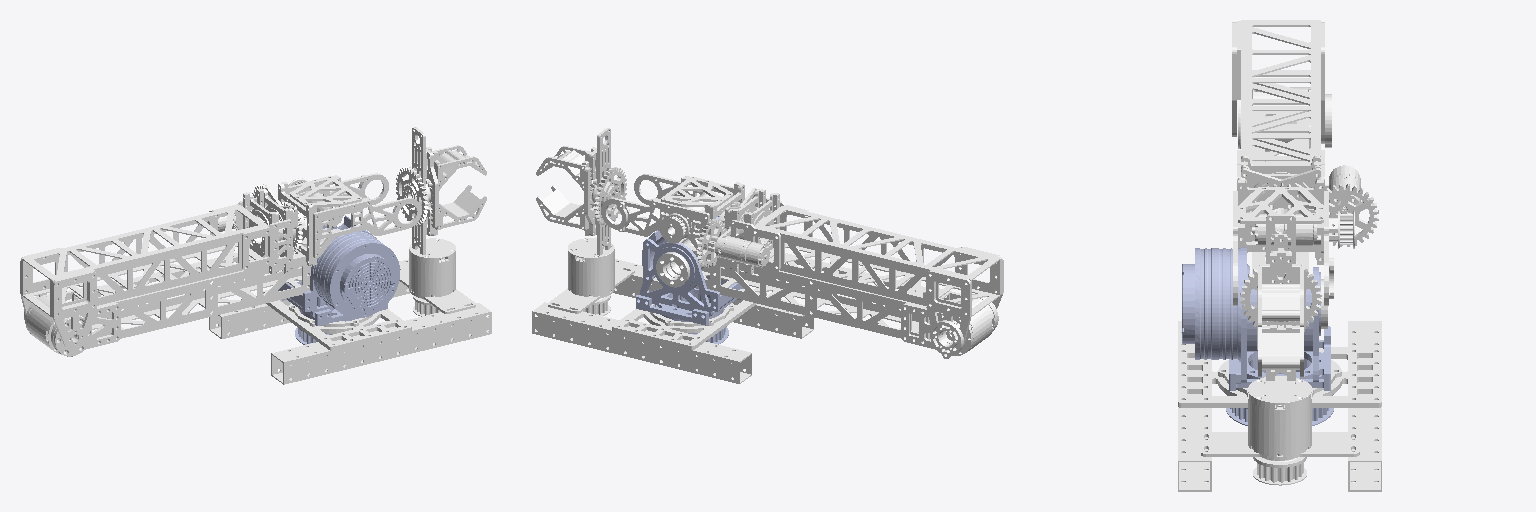
robot.urdf — M71_predev:
<?xml version="1.0" encoding="utf-8"?>
<!-- This URDF was automatically created by SolidWorks to URDF Exporter! Originally created by Stephen Brawner (brawner@gmail.com) 
     Commit Version: 1.6.0-4-g7f85cfe  Build Version: 1.6.7995.38578
     For more information, please see http://wiki.ros.org/sw_urdf_exporter -->
<robot
  name="M71_predev">
  <link
    name="base_link">
    <inertial>
      <origin
        xyz="0.0602359620912775 2.06534394533487E-05 0.0314866145451727"
        rpy="0 0 0" />
      <mass
        value="0.371602000049835" />
      <inertia
        ixx="0.000479688158034869"
        ixy="-9.04126602004178E-07"
        ixz="1.69296139713029E-08"
        iyy="0.00091399431733"
        iyz="-2.34354762167464E-12"
        izz="0.00133269062108826" />
    </inertial>
    <visual>
      <origin
        xyz="0 0 0"
        rpy="0 0 0" />
      <geometry>
        <mesh
          filename="../meshes/base_link.STL" />
      </geometry>
      <material
        name="">
        <color
          rgba="1 1 1 1" />
      </material>
    </visual>
    <collision>
      <origin
        xyz="0 0 0"
        rpy="0 0 0" />
      <geometry>
        <mesh
          filename="../meshes/base_link.STL" />
      </geometry>
    </collision>
  </link>
  <link
    name="L1">
    <inertial>
      <origin
        xyz="0.00146879518234866 -0.0261683264535687 0.0614279628415452"
        rpy="0 0 0" />
      <mass
        value="0.685743266454038" />
      <inertia
        ixx="0.000524676161199613"
        ixy="-1.44471892471068E-08"
        ixz="-7.38359012131152E-06"
        iyy="0.000743422342107644"
        iyz="1.28946988763127E-07"
        izz="0.000700139701826251" />
    </inertial>
    <visual>
      <origin
        xyz="0 0 0"
        rpy="0 0 0" />
      <geometry>
        <mesh
          filename="../meshes/L1.STL" />
      </geometry>
      <material
        name="">
        <color
          rgba="0.796078431372549 0.823529411764706 0.937254901960784 1" />
      </material>
    </visual>
    <collision>
      <origin
        xyz="0 0 0"
        rpy="0 0 0" />
      <geometry>
        <mesh
          filename="../meshes/L1.STL" />
      </geometry>
    </collision>
  </link>
  <joint
    name="J1"
    type="revolute">
    <origin
      xyz="0 0 0.017"
      rpy="0 0 0" />
    <parent
      link="base_link" />
    <child
      link="L1" />
    <axis
      xyz="0 0 -1" />
    <limit
      lower="-0.78539"
      upper="1.5708"
      effort="0"
      velocity="0" />
  </joint>
  <link
    name="L2">
    <inertial>
      <origin
        xyz="0.218263522656866 -4.62780270635116E-06 0.00267346294069555"
        rpy="0 0 0" />
      <mass
        value="0.466856513178999" />
      <inertia
        ixx="0.000240555561972359"
        ixy="-1.85843729120172E-08"
        ixz="-7.89442160404663E-07"
        iyy="0.00246887143975486"
        iyz="-1.69296139623496E-08"
        izz="0.00250536453398545" />
    </inertial>
    <visual>
      <origin
        xyz="0 0 0"
        rpy="0 0 0" />
      <geometry>
        <mesh
          filename="../meshes/L2.STL" />
      </geometry>
      <material
        name="">
        <color
          rgba="1 1 1 1" />
      </material>
    </visual>
    <collision>
      <origin
        xyz="0 0 0"
        rpy="0 0 0" />
      <geometry>
        <mesh
          filename="../meshes/L2.STL" />
      </geometry>
    </collision>
  </link>
  <joint
    name="J2"
    type="revolute">
    <origin
      xyz="0 0.0007 0.084"
      rpy="1.5708 0 3.1416" />
    <parent
      link="L1" />
    <child
      link="L2" />
    <axis
      xyz="0 0 1" />
    <limit
      lower="0"
      upper="1.7279"
      effort="0"
      velocity="0" />
  </joint>
  <link
    name="L3">
    <inertial>
      <origin
        xyz="0.046496278710457 0.154412525145946 0.00376501162415074"
        rpy="0 0 0" />
      <mass
        value="0.4707553740085" />
      <inertia
        ixx="0.00153078530246087"
        ixy="-3.48256639135333E-09"
        ixz="1.91642770446684E-10"
        iyy="0.000354284273710677"
        iyz="-6.89428800925179E-07"
        izz="0.00151931627057738" />
    </inertial>
    <visual>
      <origin
        xyz="0 0 0"
        rpy="0 0 0" />
      <geometry>
        <mesh
          filename="../meshes/L3.STL" />
      </geometry>
      <material
        name="">
        <color
          rgba="1 1 1 1" />
      </material>
    </visual>
    <collision>
      <origin
        xyz="0 0 0"
        rpy="0 0 0" />
      <geometry>
        <mesh
          filename="../meshes/L3.STL" />
      </geometry>
    </collision>
  </link>
  <joint
    name="J3"
    type="revolute">
    <origin
      xyz="0.385 0 0"
      rpy="0 0 1.5708" />
    <parent
      link="L2" />
    <child
      link="L3" />
    <axis
      xyz="0 0 1" />
    <limit
      lower="-3.1416"
      upper="0"
      effort="0"
      velocity="0" />
  </joint>
  <link
    name="L4">
    <inertial>
      <origin
        xyz="0.00633026084870138 -0.0046170197305301 0.0375305966704979"
        rpy="0 0 0" />
      <mass
        value="0.24628576631076" />
      <inertia
        ixx="0.000179923499561024"
        ixy="-4.82787762983947E-08"
        ixz="6.07805338226194E-06"
        iyy="0.000173789179670014"
        iyz="4.30819434777291E-08"
        izz="9.05350950861621E-05" />
    </inertial>
    <visual>
      <origin
        xyz="0 0 0"
        rpy="0 0 0" />
      <geometry>
        <mesh
          filename="../meshes/L4.STL" />
      </geometry>
      <material
        name="">
        <color
          rgba="1 1 1 1" />
      </material>
    </visual>
    <collision>
      <origin
        xyz="0 0 0"
        rpy="0 0 0" />
      <geometry>
        <mesh
          filename="../meshes/L4.STL" />
      </geometry>
    </collision>
  </link>
  <joint
    name="J4"
    type="revolute">
    <origin
      xyz="0.057 0.32 0.0003"
      rpy="-1.5708 0 0" />
    <parent
      link="L3" />
    <child
      link="L4" />
    <axis
      xyz="0 0 1" />
    <limit
      lower="-2.618"
      upper="2.618"
      effort="0"
      velocity="0" />
  </joint>
  <link
    name="L5">
    <inertial>
      <origin
        xyz="-0.00925463544862559 0.0165759077584312 -0.00225090528504068"
        rpy="0 0 0" />
      <mass
        value="0.232903778615981" />
      <inertia
        ixx="0.000113720578268183"
        ixy="-5.6623899914824E-08"
        ixz="-1.87345669659082E-11"
        iyy="4.99641593032859E-05"
        iyz="4.94766666254705E-10"
        izz="8.19809309293398E-05" />
    </inertial>
    <visual>
      <origin
        xyz="0 0 0"
        rpy="0 0 0" />
      <geometry>
        <mesh
          filename="../meshes/L5.STL" />
      </geometry>
      <material
        name="">
        <color
          rgba="1 1 1 1" />
      </material>
    </visual>
    <collision>
      <origin
        xyz="0 0 0"
        rpy="0 0 0" />
      <geometry>
        <mesh
          filename="../meshes/L5.STL" />
      </geometry>
    </collision>
  </link>
  <joint
    name="J5"
    type="revolute">
    <origin
      xyz="0 0 0.144"
      rpy="1.5708 1.5708 0" />
    <parent
      link="L4" />
    <child
      link="L5" />
    <axis
      xyz="0 0 1" />
    <limit
      lower="-1.5708"
      upper="1.5708"
      effort="0"
      velocity="0" />
  </joint>
  <link
    name="L6">
    <inertial>
      <origin
        xyz="0.0015023914559673 4.09015269570157E-16 0.0105107184402924"
        rpy="0 0 0" />
      <mass
        value="0.0783846874953285" />
      <inertia
        ixx="1.24759510629863E-05"
        ixy="-2.82698237443864E-14"
        ixz="-1.5144977333326E-20"
        iyy="9.38440988195971E-05"
        iyz="-3.3413380866481E-13"
        izz="0.000105245109031141" />
    </inertial>
    <visual>
      <origin
        xyz="0 0 0"
        rpy="0 0 0" />
      <geometry>
        <mesh
          filename="../meshes/L6.STL" />
      </geometry>
      <material
        name="">
        <color
          rgba="1 1 1 1" />
      </material>
    </visual>
    <collision>
      <origin
        xyz="0 0 0"
        rpy="0 0 0" />
      <geometry>
        <mesh
          filename="../meshes/L6.STL" />
      </geometry>
    </collision>
  </link>
  <joint
    name="J6"
    type="continuous">
    <origin
      xyz="-0.0279 0 0"
      rpy="1.5708 0 -1.5708" />
    <parent
      link="L5" />
    <child
      link="L6" />
    <axis
      xyz="0 0 -1" />
    <limit
      lower="-6.28"
      upper="6.28"
      effort="0"
      velocity="0" />
  </joint>
  <link
    name="TCP_Link">
    <inertial>
      <origin
        xyz="-0.018443938577374 3.80945275324507E-15 -2.33835303550811E-15"
        rpy="0 0 0" />
      <mass
        value="0.0833360793944558" />
      <inertia
        ixx="2.33515408855196E-05"
        ixy="1.15444039595065E-20"
        ixz="-2.09246742722162E-21"
        iyy="2.05428800368603E-05"
        iyz="3.84000719359993E-06"
        izz="3.49955775328471E-05" />
    </inertial>
    <visual>
      <origin
        xyz="0 0 0"
        rpy="0 0 0" />
      <geometry>
        <mesh
          filename="../meshes/TCP_Link.STL" />
      </geometry>
      <material
        name="">
        <color
          rgba="1 1 1 1" />
      </material>
    </visual>
    <collision>
      <origin
        xyz="0 0 0"
        rpy="0 0 0" />
      <geometry>
        <mesh
          filename="../meshes/TCP_Link.STL" />
      </geometry>
    </collision>
  </link>
  <joint
    name="TCP"
    type="fixed">
    <origin
      xyz="0 0 0.063"
      rpy="1.5708 -1.5708 0" />
    <parent
      link="L6" />
    <child
      link="TCP_Link" />
    <axis
      xyz="0 0 0" />
  </joint>
</robot>

--- Render facts (derived) ---
The picture shows the robot from 3 angles, left to right: view 1: azimuth 30°, elevation 25°; view 2: azimuth 150°, elevation 25°; view 3: azimuth 270°, elevation 25°; orthographic projection.
Model M71_predev with 8 links and 7 joints (5 revolute, 1 continuous, 1 fixed), rooted at base_link, posed all joints at 0.
Visible links, largest first — view 1: L3, base_link, L2, L1, L4, TCP_Link, L6; view 2: L3, base_link, L2, L4, L1, TCP_Link, L6; view 3: base_link, L3, L1, L4, TCP_Link, L6, L2.
Link boxes in pixels (x1,y1,x2,y2): L3: (20,184,297,356); base_link: (209,238,491,384); L2: (25,228,339,354); L1: (278,215,399,344); L4: (249,173,421,265); TCP_Link: (426,145,486,235); L6: (396,127,432,254); L3: (696,188,1003,358); base_link: (532,238,813,383); L2: (656,238,994,355); L4: (601,174,773,265); L1: (636,217,743,344); TCP_Link: (536,146,596,235); L6: (590,128,626,255); base_link: (1178,321,1381,491); L3: (1232,20,1378,246); L1: (1182,247,1333,425); L4: (1233,177,1354,305); TCP_Link: (1257,251,1305,377); L6: (1240,214,1321,380); L2: (1252,87,1327,328).
Size in the robot's own frame: 0.6176 by 0.18 by 0.246 metres.
Meshes: 8 distinct files referenced, 7 mesh visuals loaded (7 binary STL); not drawn: 1 (reference not matched to a file when rendering).
